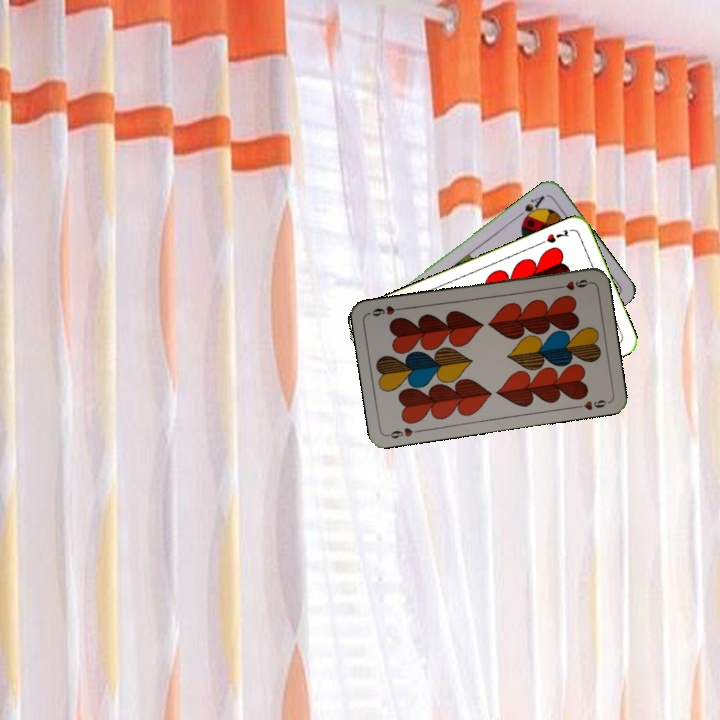H7: (535, 225, 572, 247)
H9: (552, 275, 593, 293), (384, 424, 424, 441)
SA: (514, 191, 547, 224)
